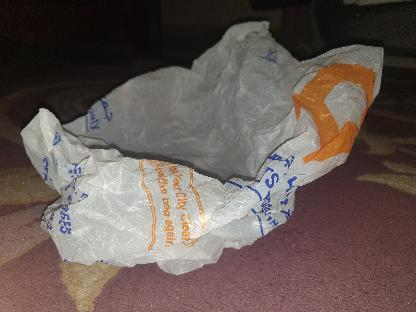Plastic Bag: (20, 21, 384, 274)
